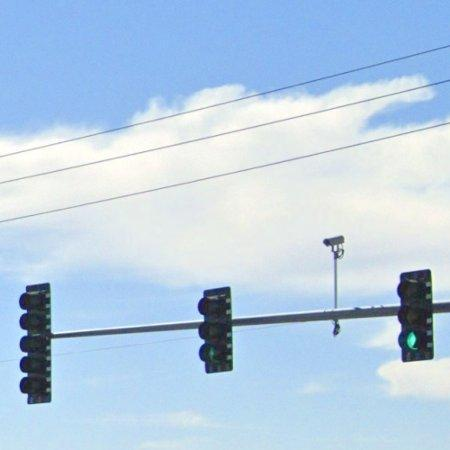traffic lights: (15, 282, 58, 407), (394, 265, 441, 365), (198, 287, 234, 382)
